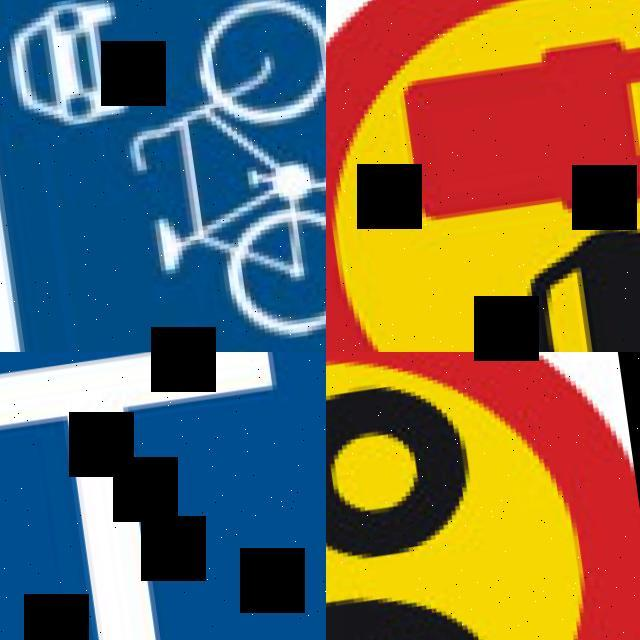17: (0, 0, 326, 352)
178: (0, 352, 326, 640)
34: (326, 0, 640, 352)
speed limit-60: (326, 352, 640, 640)
